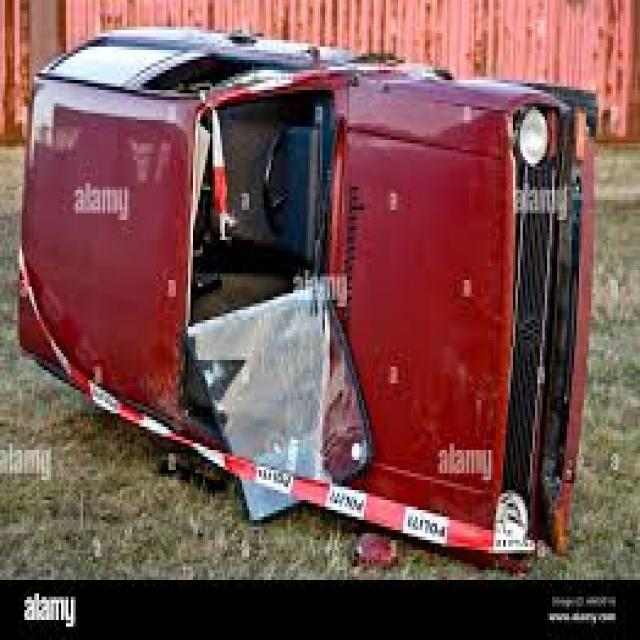damaged-windscreen: (204, 108, 357, 464)
